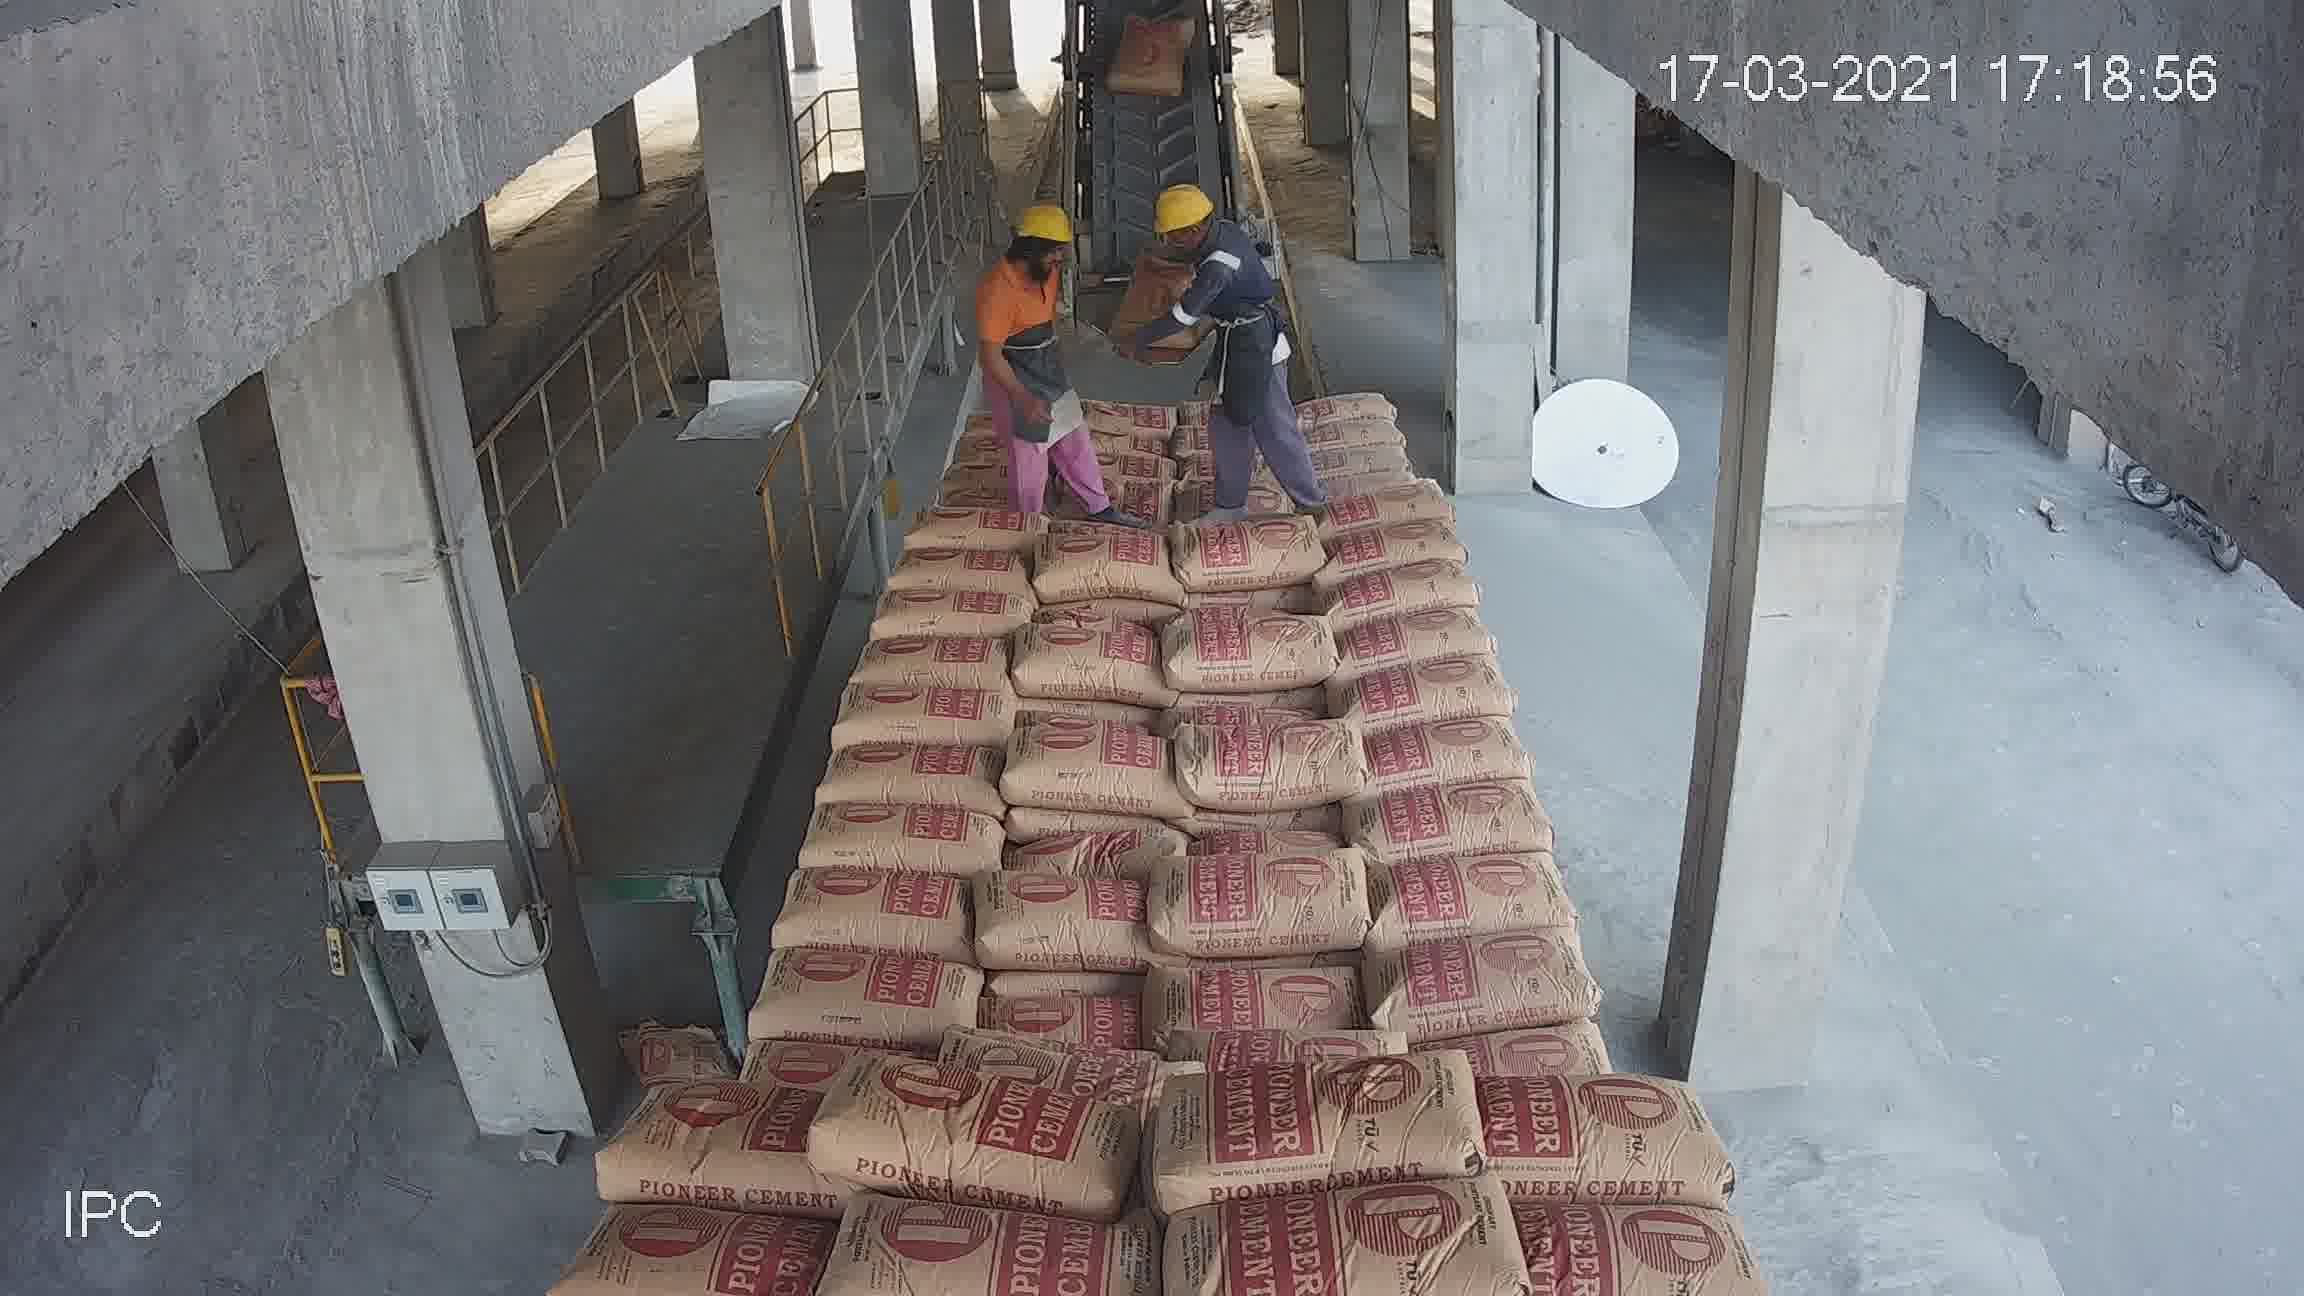bag: (1111, 9, 1195, 85)
bag_h: (817, 1019, 1184, 1195), (1160, 1051, 1475, 1218), (1158, 1174, 1510, 1296), (1473, 1071, 1734, 1214), (1361, 918, 1600, 1041), (733, 937, 987, 1048), (590, 1079, 804, 1211), (1147, 824, 1372, 943), (831, 1209, 1152, 1285), (1364, 848, 1586, 953), (1154, 934, 1366, 1035), (552, 1203, 818, 1283), (1522, 1201, 1750, 1288), (1339, 772, 1541, 869), (910, 1025, 1198, 1092), (785, 853, 973, 949), (1173, 711, 1362, 804), (785, 791, 1003, 872), (965, 875, 1150, 970), (1347, 646, 1524, 742), (994, 726, 1174, 813), (1188, 1013, 1407, 1081), (1356, 704, 1522, 793), (810, 731, 999, 809), (832, 669, 1017, 747), (1014, 802, 1188, 885), (1313, 555, 1502, 628), (1169, 612, 1336, 695), (1177, 492, 1313, 592), (1298, 459, 1453, 543), (995, 964, 1147, 1049), (1434, 1010, 1622, 1078), (1010, 619, 1169, 696), (1328, 608, 1505, 677), (866, 584, 1049, 649), (839, 630, 1022, 695), (1036, 510, 1166, 601), (1320, 513, 1468, 592), (1282, 445, 1431, 500), (905, 502, 1048, 559), (883, 540, 1019, 590), (1101, 427, 1184, 502), (1290, 434, 1419, 475), (1298, 377, 1404, 426), (1078, 400, 1180, 437), (1294, 418, 1404, 446)
belt: (1057, 19, 1237, 324)
